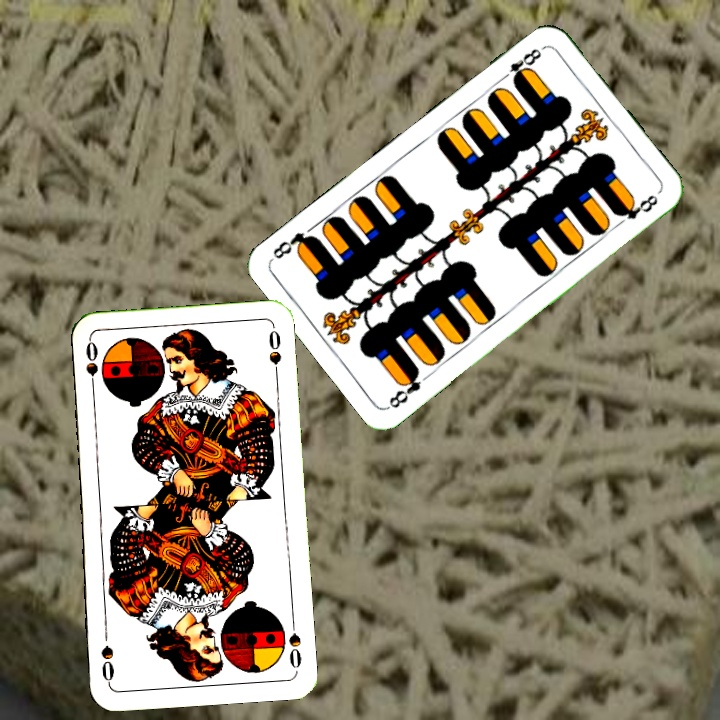E8: (496, 43, 547, 87), (384, 365, 424, 411)
SO: (82, 337, 101, 396), (285, 614, 304, 673)
